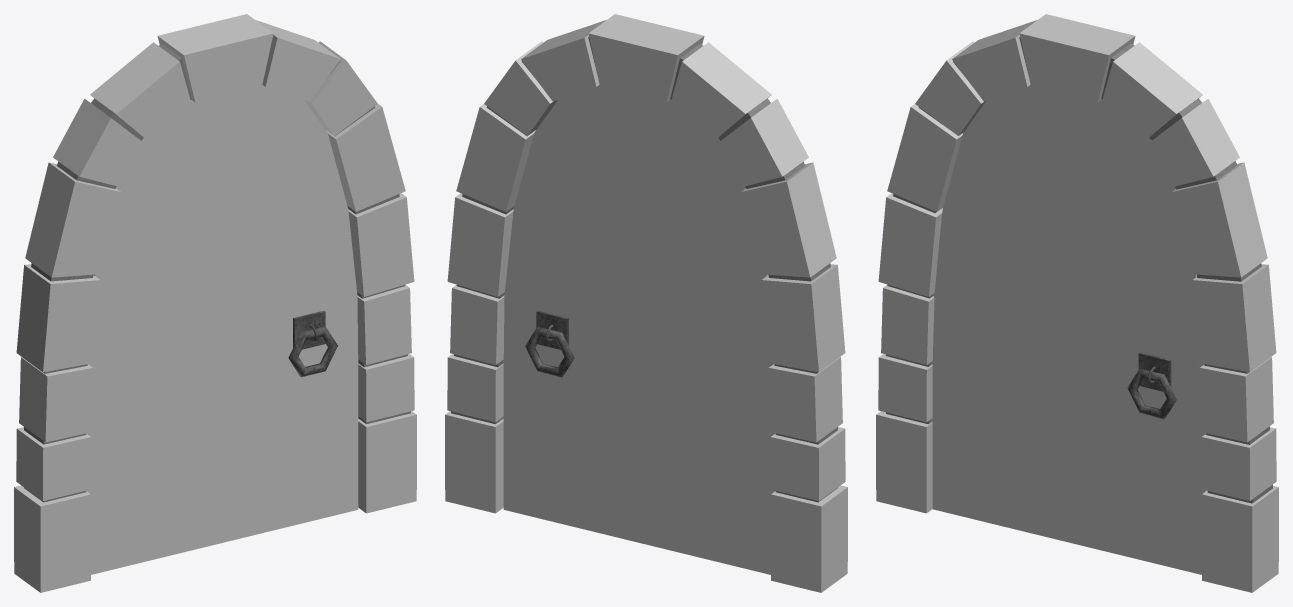
Rendered from MS_StoneFrameDoor.fbx.
3 views of the same model, side by side, from view 1: azimuth 30°, elevation 25°; view 2: azimuth 150°, elevation 25°; view 3: azimuth 330°, elevation 25° (orthographic).
Parts seen in each view (by area): view 1: MS_Door_R, MS_DoorFrame, MS_Doorframe_Filling; view 2: MS_Door_R, MS_DoorFrame, MS_Doorframe_Filling; view 3: MS_Door_R, MS_DoorFrame, MS_Doorframe_Filling.
Boxes of the visible parts, x1=… form: MS_Door_R: x1=86, y1=85, x2=358, y2=574; MS_DoorFrame: x1=14, y1=14, x2=416, y2=592; MS_Doorframe_Filling: x1=24, y1=36, x2=410, y2=502; MS_Door_R: x1=503, y1=85, x2=775, y2=574; MS_DoorFrame: x1=445, y1=14, x2=847, y2=592; MS_Doorframe_Filling: x1=451, y1=36, x2=837, y2=502; MS_Door_R: x1=932, y1=85, x2=1206, y2=574; MS_DoorFrame: x1=876, y1=14, x2=1278, y2=592; MS_Doorframe_Filling: x1=886, y1=37, x2=1272, y2=503.
Size of the model in its own units: 164 by 209 by 22.79.
